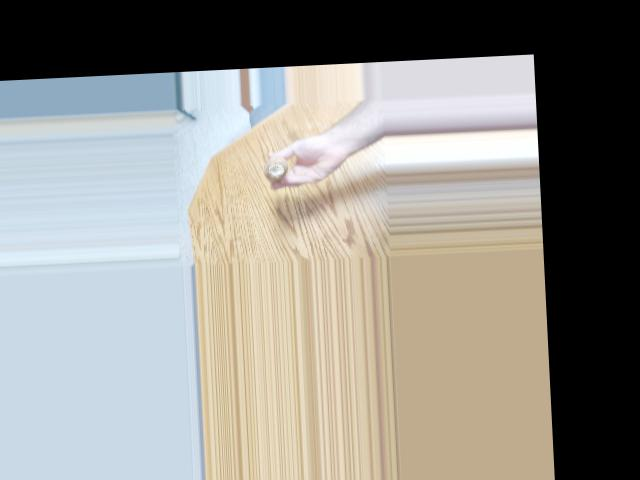sweet_potato: (257, 153, 288, 179)
